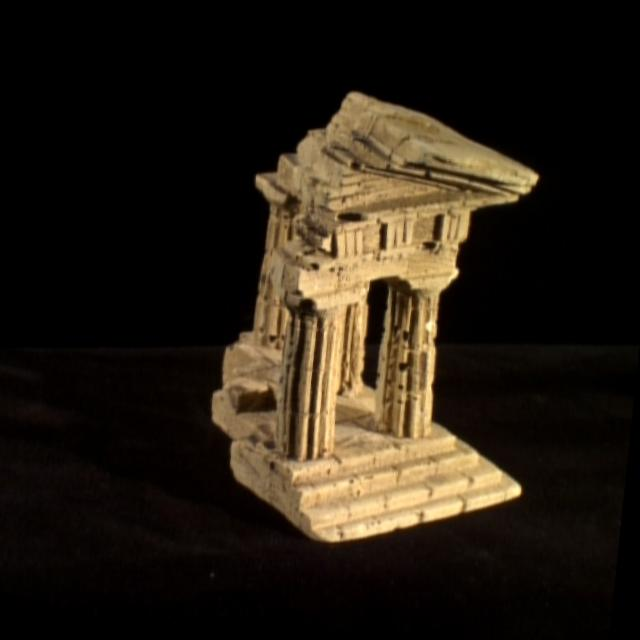Instance-Segmentation: (212, 93, 536, 542)
